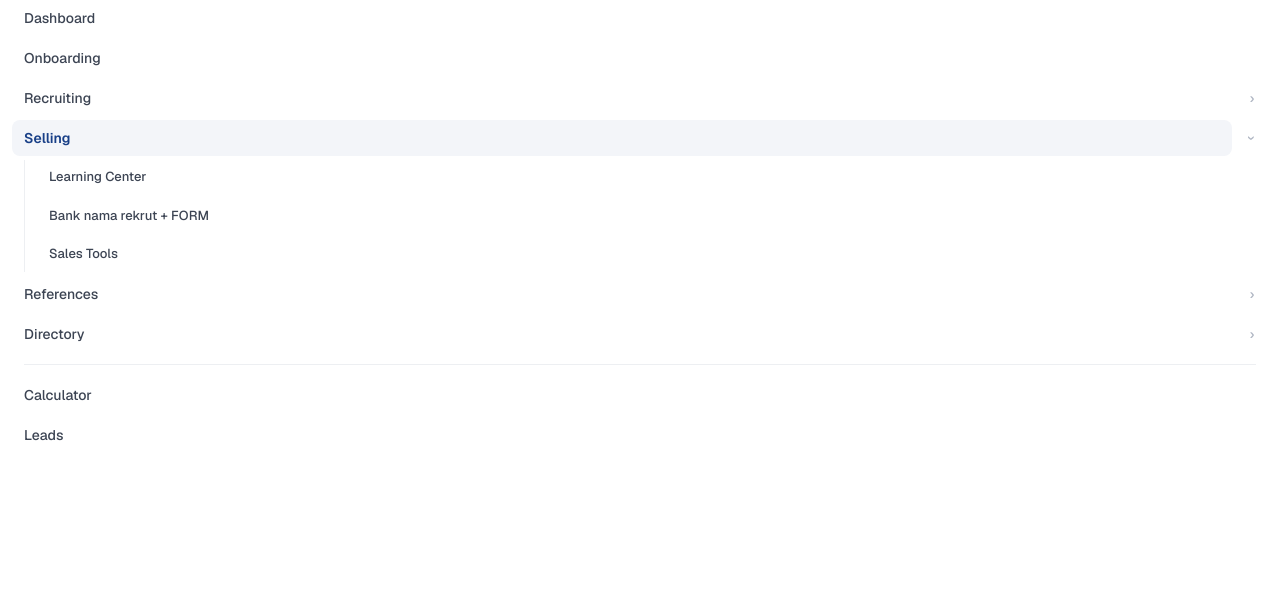
Test: MemberNav › the chevron toggles children independently of the label link
The width and height of the screenshot is (1280, 612).
Expected: the link "Recruiting" is shown, [24,89,91,107]
Expected: the link "Kenapa recruit dlu?" is not shown
Click the button named "Expand Recruiting" at (1252, 98), box [1236,82,1268,114]
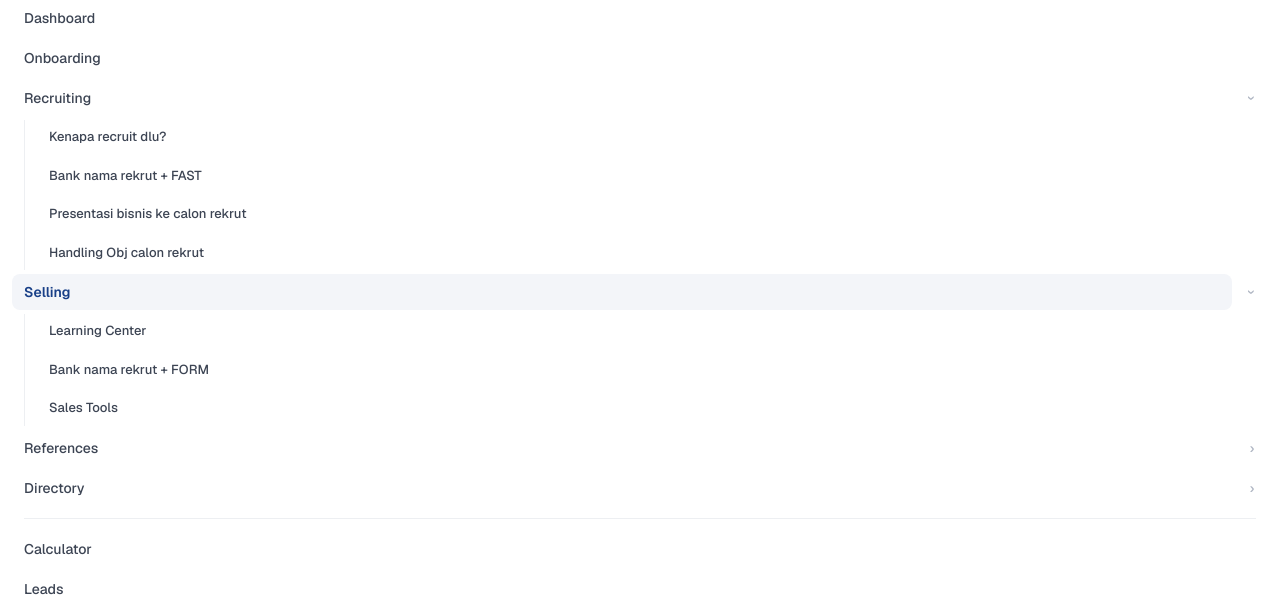
Expected: the link "Learning Center" is shown, [49,322,146,339]
Now the link "Kenapa recruit dlu?" is shown, box [49,128,166,145]
